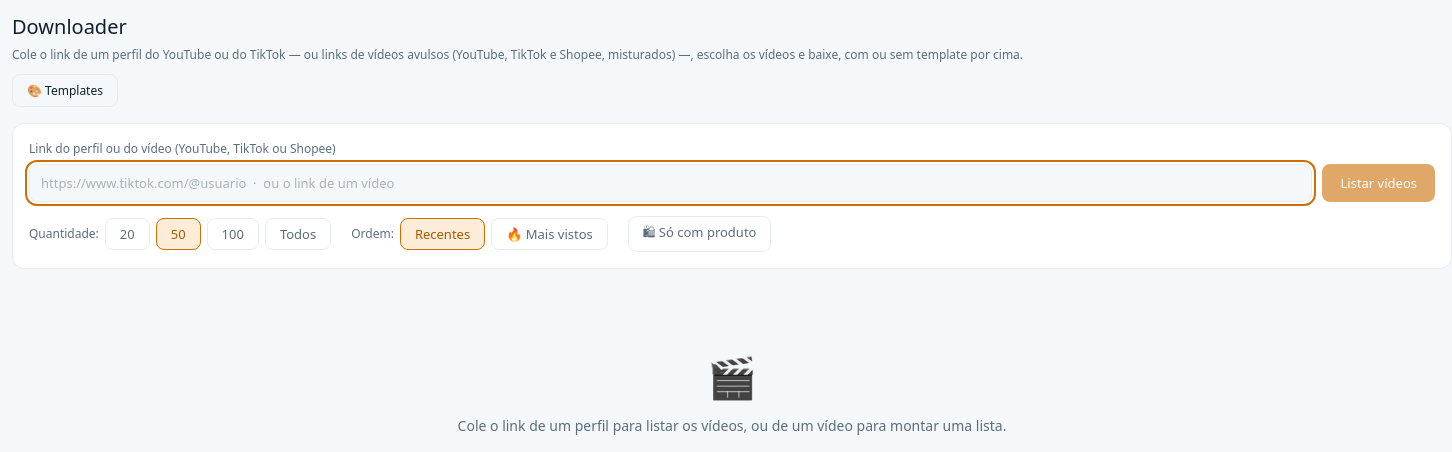
Scenario: listagem › mostra a mensagem do backend quando a listagem falha
In the field labelled "Link do perfil ou do vídeo (YouTube, TikTok ou Shopee)": (671, 183) [29,164,1312,202], type "https://www.youtube.com/@privado"
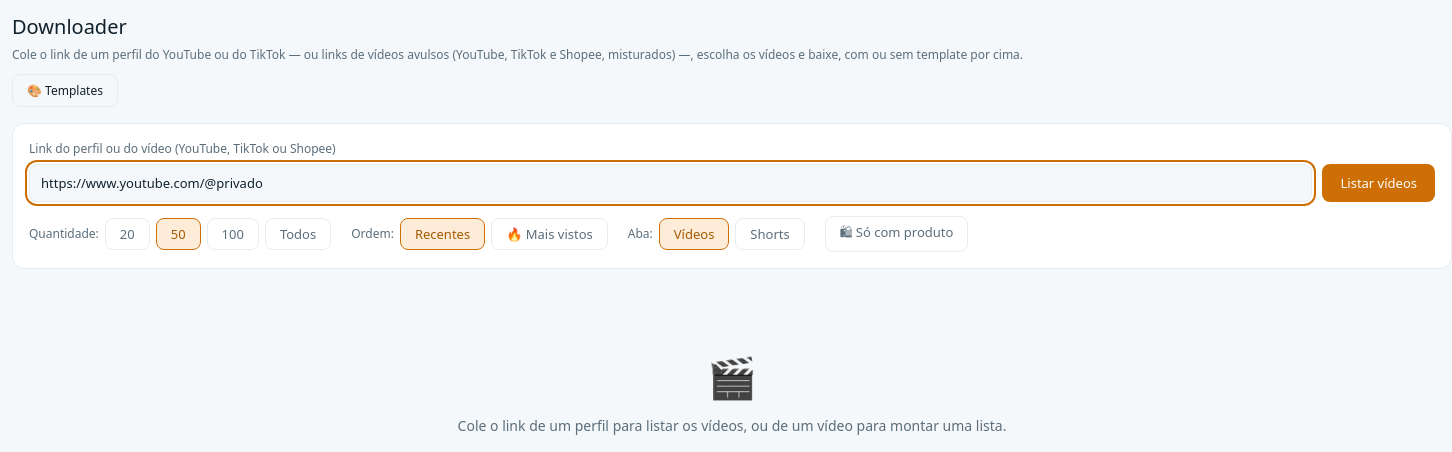
Click the button "Listar vídeos": (1379, 183) [1322,164,1435,202]
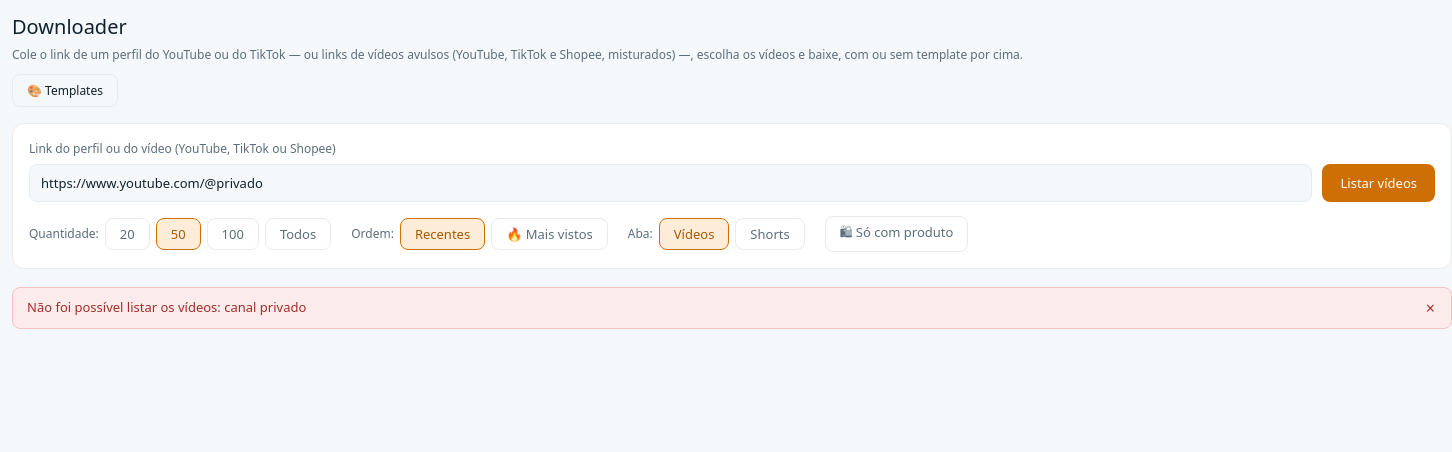
Expected: the text "Não foi possível listar os vídeos: canal privado" is shown, [27,298,306,316]
